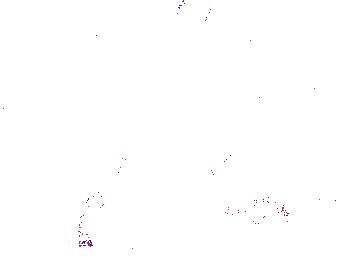X-ray fish: (233, 197, 286, 229)
glassfish: (191, 128, 268, 191), (78, 153, 129, 247)
red belly glassfish: (250, 26, 293, 45)
redtail glassfish: (175, 1, 240, 20)
